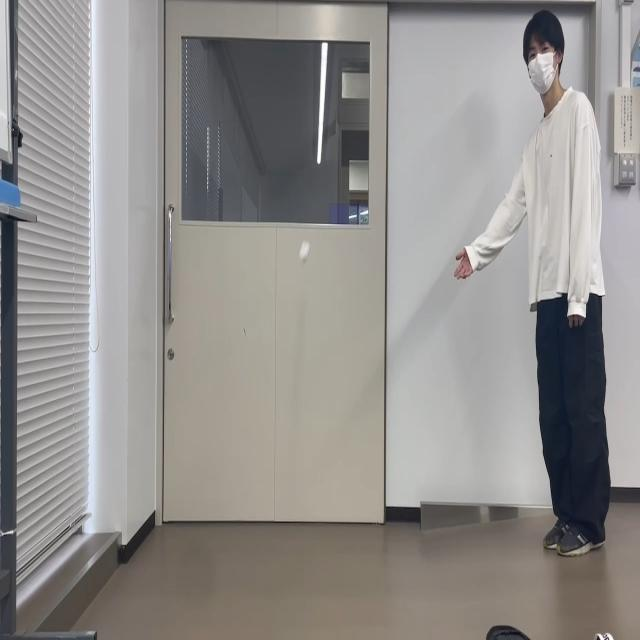paper: (298, 236, 312, 267)
